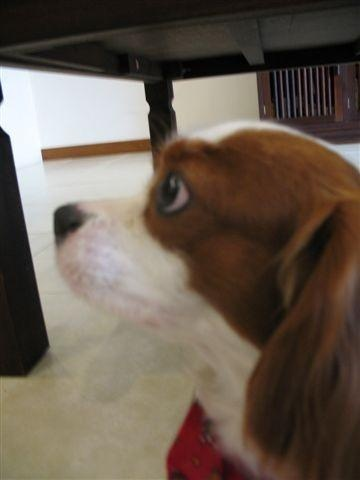dog: (49, 115, 360, 480)
